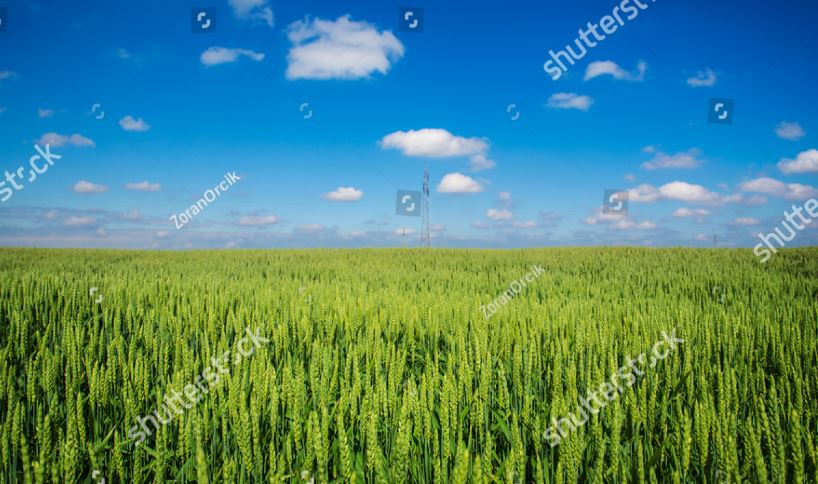Wheat: (40, 298, 482, 474)
